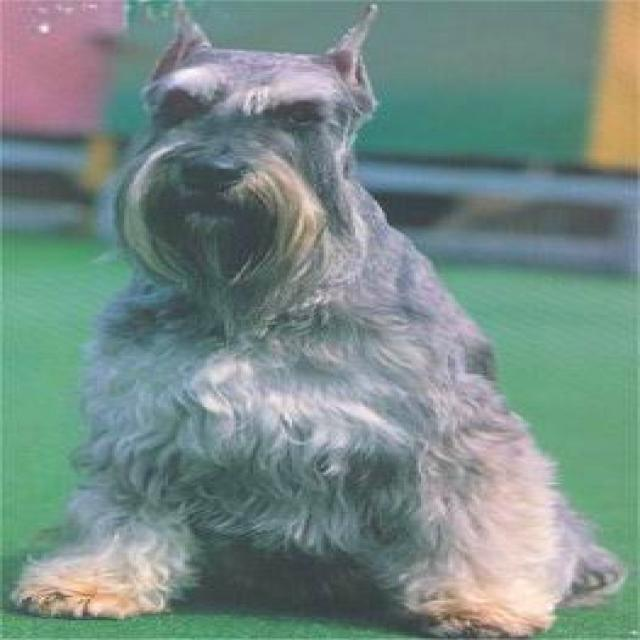standard_schnauzer: (8, 1, 628, 636)
